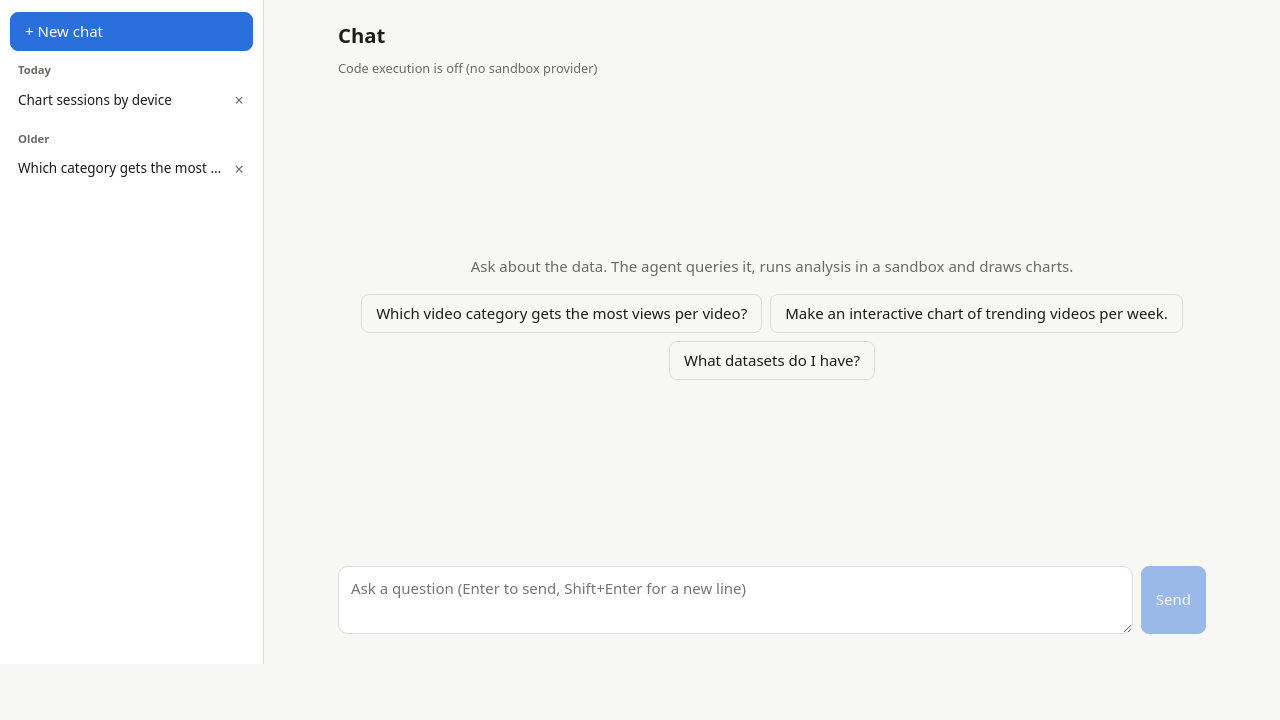
Test: ChatLayout › starts a new chat from the side
The image size is (1280, 720).
Type "Hello there" into the text box named "Message". click: (735, 600)
box: [338, 566, 1133, 634]
Then press Enter
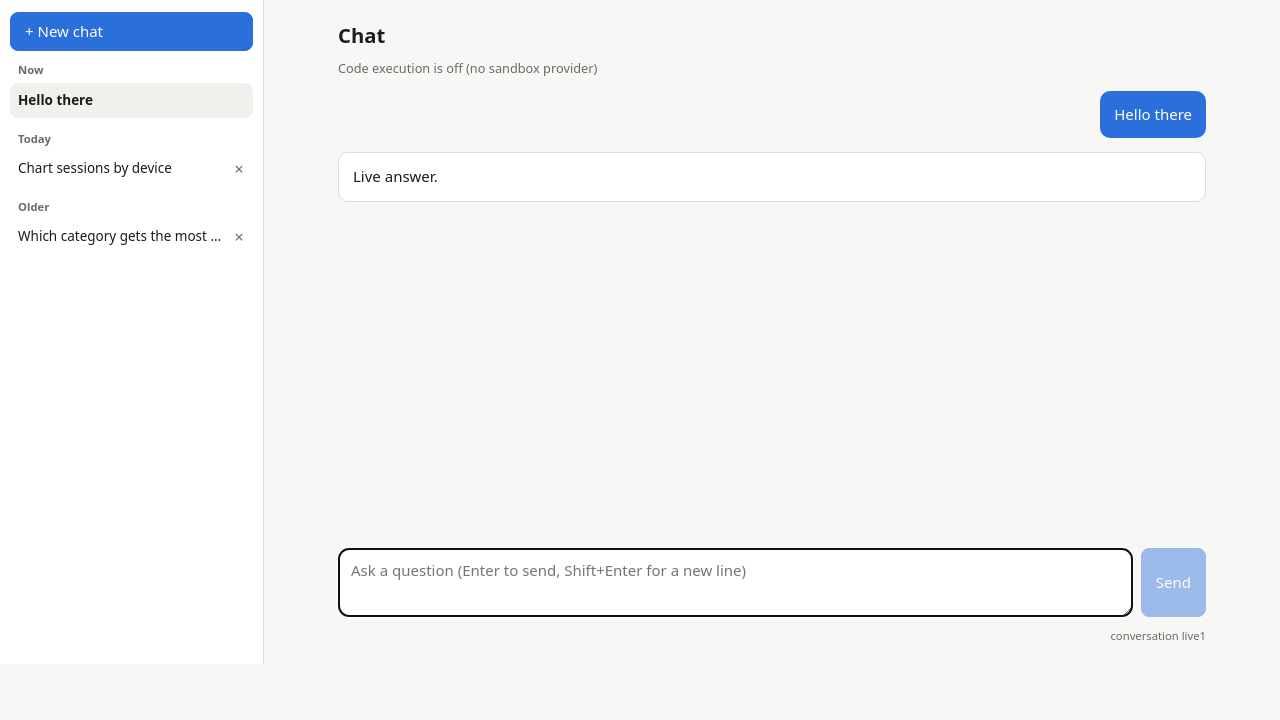
expect the text "Live answer." is shown: met, box [353, 166, 438, 186]
Click the button "+ New chat". click: (132, 32)
box: [10, 12, 253, 51]
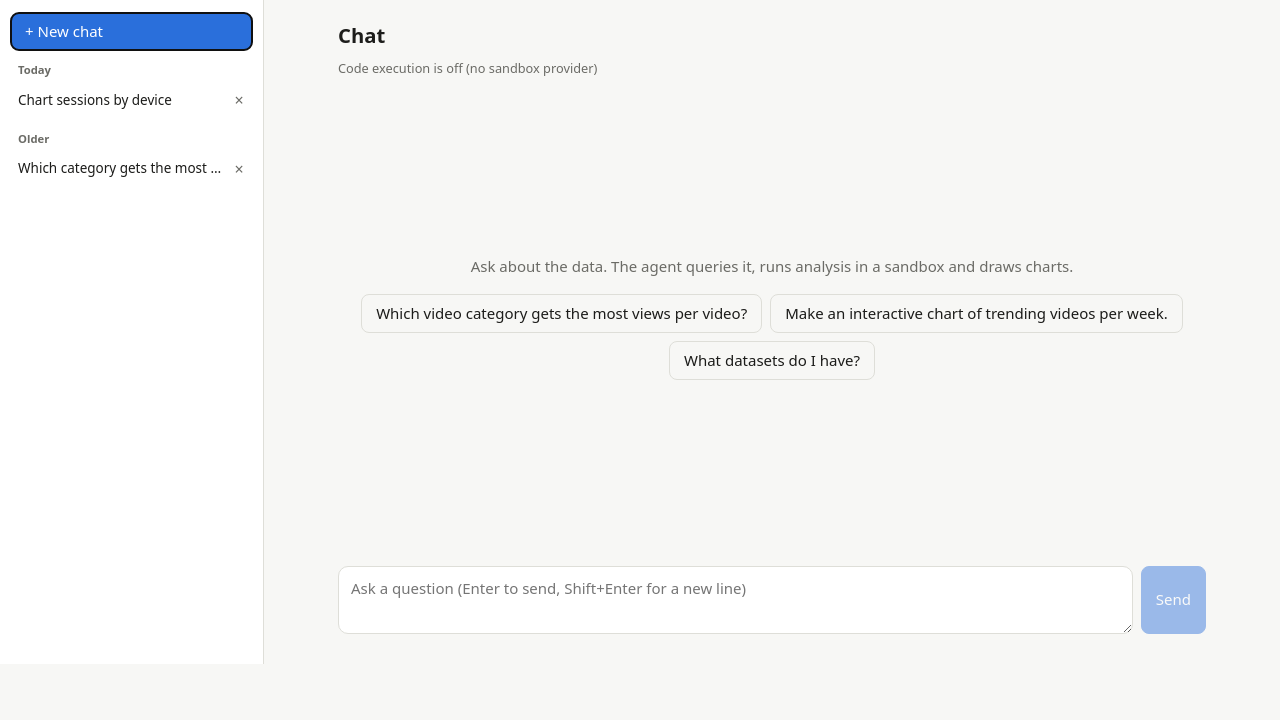
expect the text "Live answer." is gone: met
expect the text "Ask about the data" is shown: met, box [471, 256, 1073, 276]
